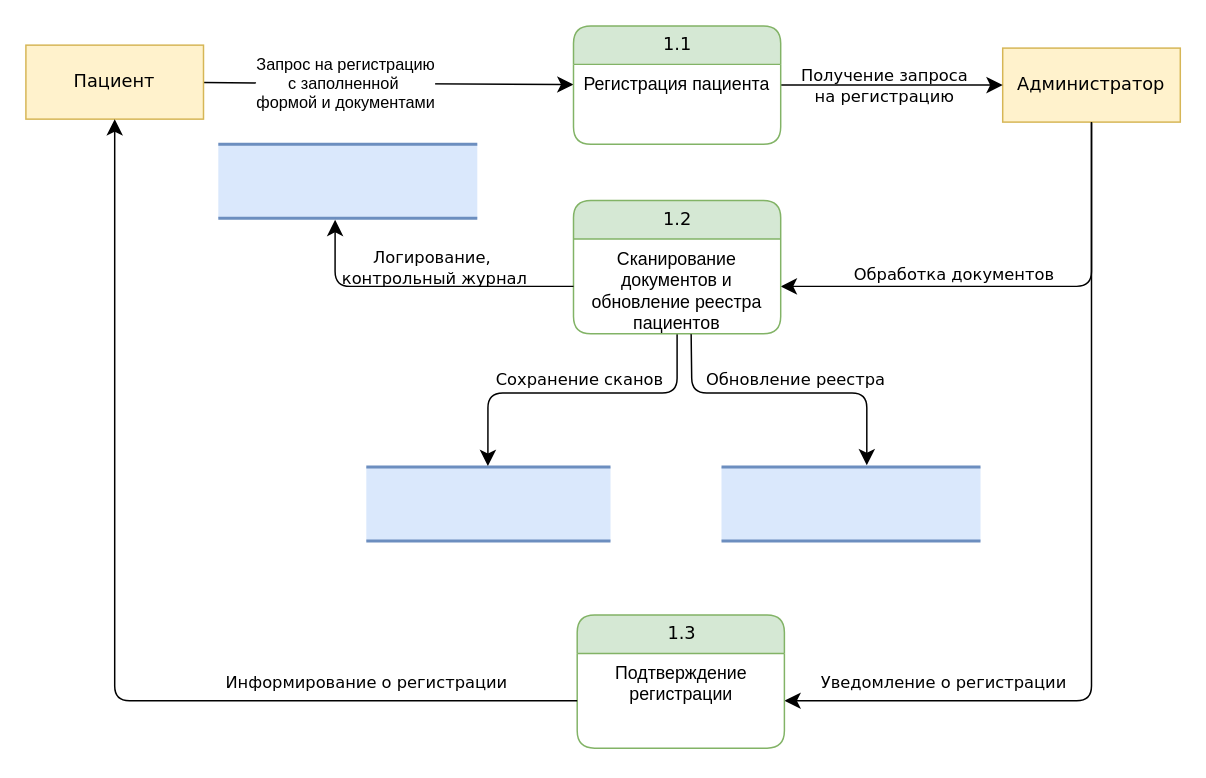
Image size: 1206x778. Some labels were removed from this diagram. Each missing label, with the centre of its shape:
"OneTrust Data Governance" goes at (x=347, y=180).
"Сетевой диск с Excel-реестром пациентов {PII}" goes at (x=850, y=503).
"Сетевой диск со сканами документов {PII}" goes at (x=487, y=503).
